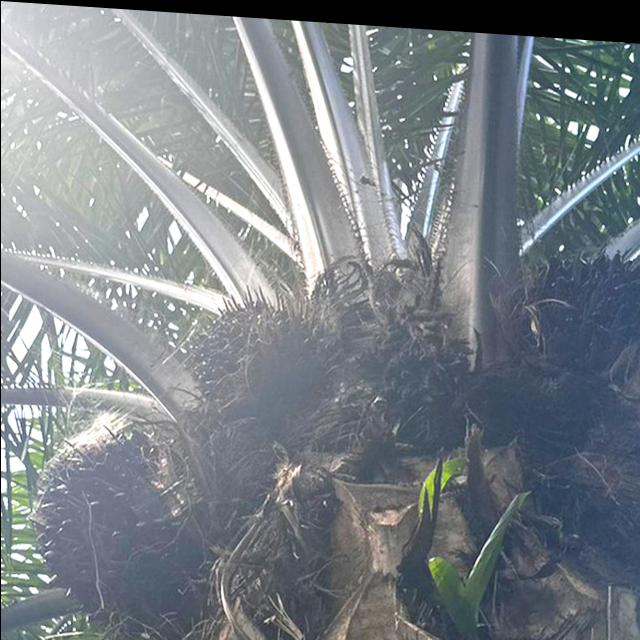unripe: (25, 418, 222, 633), (185, 275, 323, 412), (526, 230, 640, 360)
